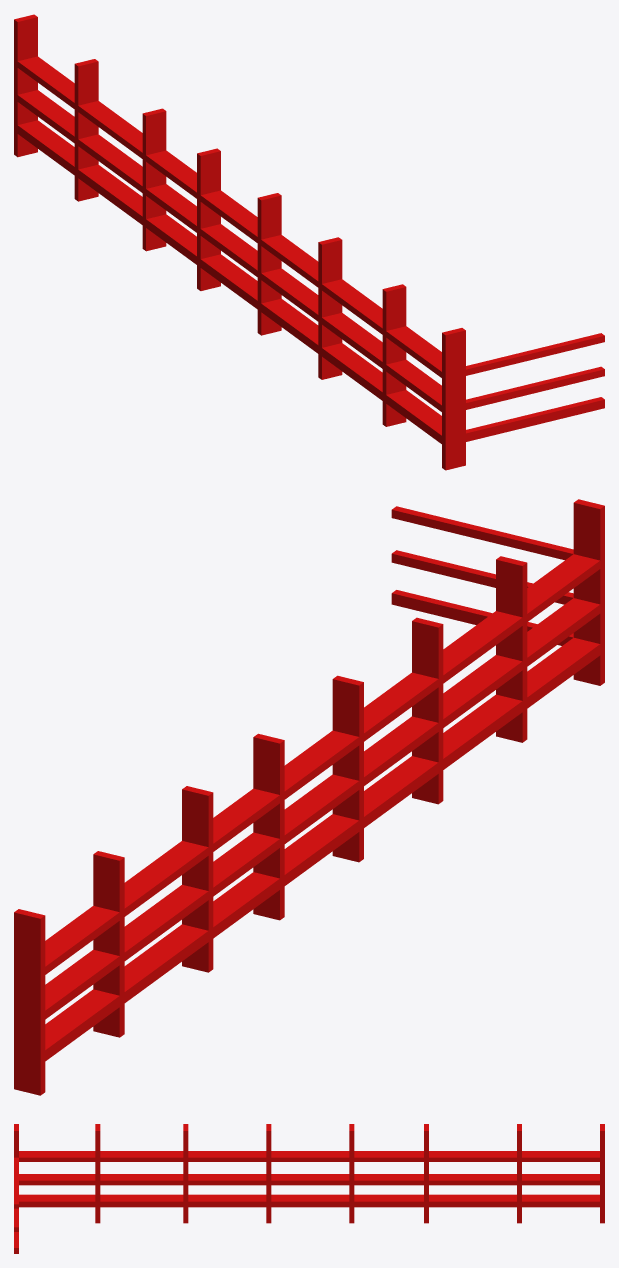
File: plane.019_lev3.glb
The picture shows the model from 3 angles, top to bottom: view 1: azimuth 30°, elevation 25°; view 2: azimuth 150°, elevation 25°; view 3: azimuth 270°, elevation 25°; orthographic projection. The views are drawn at different scales.
Parts seen in each view (by area): view 1: plane.019_lev3; view 2: plane.019_lev3; view 3: plane.019_lev3.
Boxes of the visible parts, x1,y1,x2,y2 form: plane.019_lev3: (14,14,604,470); plane.019_lev3: (14,499,604,1095); plane.019_lev3: (14,1124,604,1253).
Size of the model in its own units: 0.4805 by 0.3895 by 2.25.
